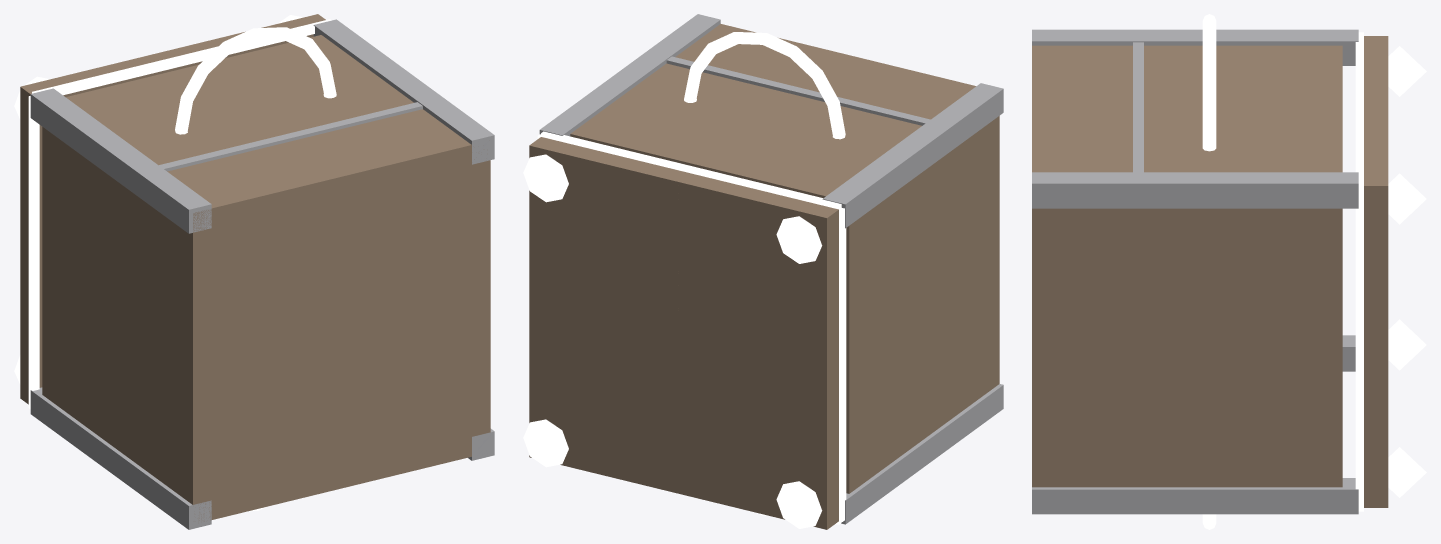
The model's file is crate_divine.glb.
3 renders of one model, left to right at view 1: azimuth 30°, elevation 25°; view 2: azimuth 150°, elevation 25°; view 3: azimuth 270°, elevation 25°, orthographic. The views are drawn at different scales.
Visible parts, largest first — view 1: crate_body, lid_q3, seam_left, seam_back, lid_q1, lid_q4; view 2: crate_body, lid_q3, lid_q1, lid_q4, lid_q2, seam_left, seam_back; view 3: crate_body, lid_q4, lid_q2, seam_right, lid_q3, seam_back.
Part boxes in pixels (x1=…): crate_body: x1=14, y1=15, x2=494, y2=529; lid_q3: x1=20, y1=50, x2=182, y2=250; seam_left: x1=28, y1=96, x2=39, y2=408; seam_back: x1=32, y1=19, x2=331, y2=95; lid_q1: x1=20, y1=243, x2=42, y2=404; lid_q4: x1=169, y1=14, x2=325, y2=68; crate_body: x1=523, y1=14, x2=1003, y2=528; lid_q3: x1=678, y1=173, x2=838, y2=373; lid_q1: x1=678, y1=338, x2=838, y2=529; lid_q4: x1=529, y1=137, x2=689, y2=337; lid_q2: x1=529, y1=301, x2=677, y2=493; seam_left: x1=839, y1=207, x2=846, y2=521; seam_back: x1=541, y1=131, x2=841, y2=209; crate_body: x1=1032, y1=14, x2=1426, y2=529; lid_q4: x1=1364, y1=111, x2=1388, y2=346; lid_q2: x1=1364, y1=347, x2=1388, y2=507; seam_right: x1=1355, y1=186, x2=1363, y2=509; lid_q3: x1=1364, y1=36, x2=1388, y2=110; seam_back: x1=1355, y1=32, x2=1363, y2=185.
Bounding box in the file's own units: 1.34 × 2.01 × 1.45.
